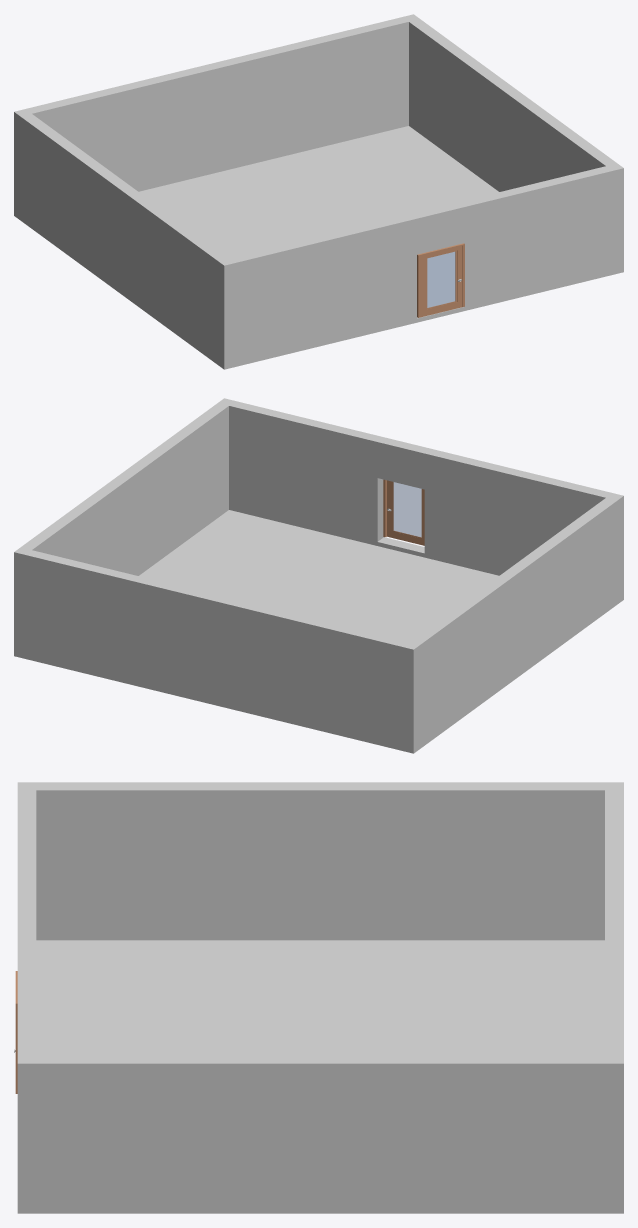
Rendered from murat6.dae.
3 renders of one model, top to bottom at view 1: azimuth 30°, elevation 25°; view 2: azimuth 150°, elevation 25°; view 3: azimuth 270°, elevation 25°, orthographic. The views are drawn at different scales.
Visible parts, largest first — view 1: Mesh7_skpF77D1_Model_001, Mesh6_Component1_skpF77D1_Model_001, Mesh4_Component1_skpF77D1_Model_001, Mesh3_Component1_skpF77D1_Model_001; view 2: Mesh7_skpF77D1_Model_001, Mesh6_Component1_skpF77D1_Model_001, Mesh4_Component1_skpF77D1_Model_001; view 3: Mesh7_skpF77D1_Model_001.
Boxes of the visible parts, x1,y1,x2,y2 form: Mesh7_skpF77D1_Model_001: [14, 14, 623, 369]; Mesh6_Component1_skpF77D1_Model_001: [427, 252, 455, 307]; Mesh4_Component1_skpF77D1_Model_001: [420, 245, 462, 317]; Mesh3_Component1_skpF77D1_Model_001: [417, 243, 464, 317]; Mesh7_skpF77D1_Model_001: [14, 398, 623, 753]; Mesh6_Component1_skpF77D1_Model_001: [393, 482, 421, 536]; Mesh4_Component1_skpF77D1_Model_001: [387, 480, 424, 545]; Mesh7_skpF77D1_Model_001: [17, 782, 623, 1213].
Bounding box in the file's own units: 3.94 × 3.61 × 0.98.
